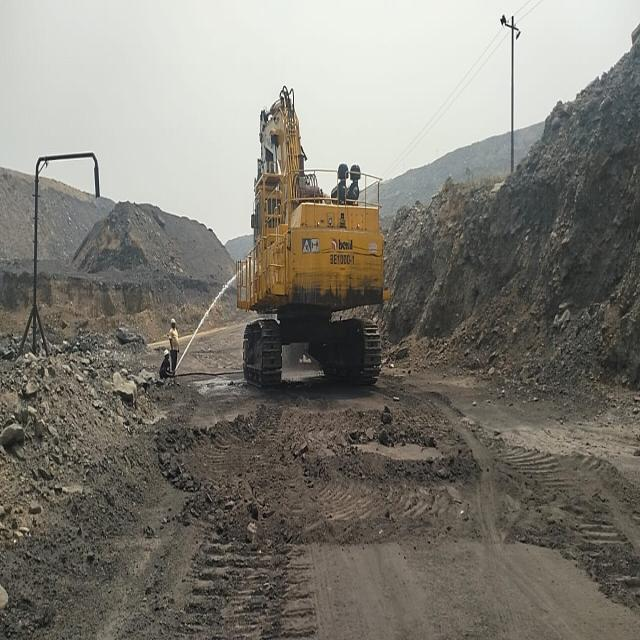excavator: (238, 87, 396, 394)
